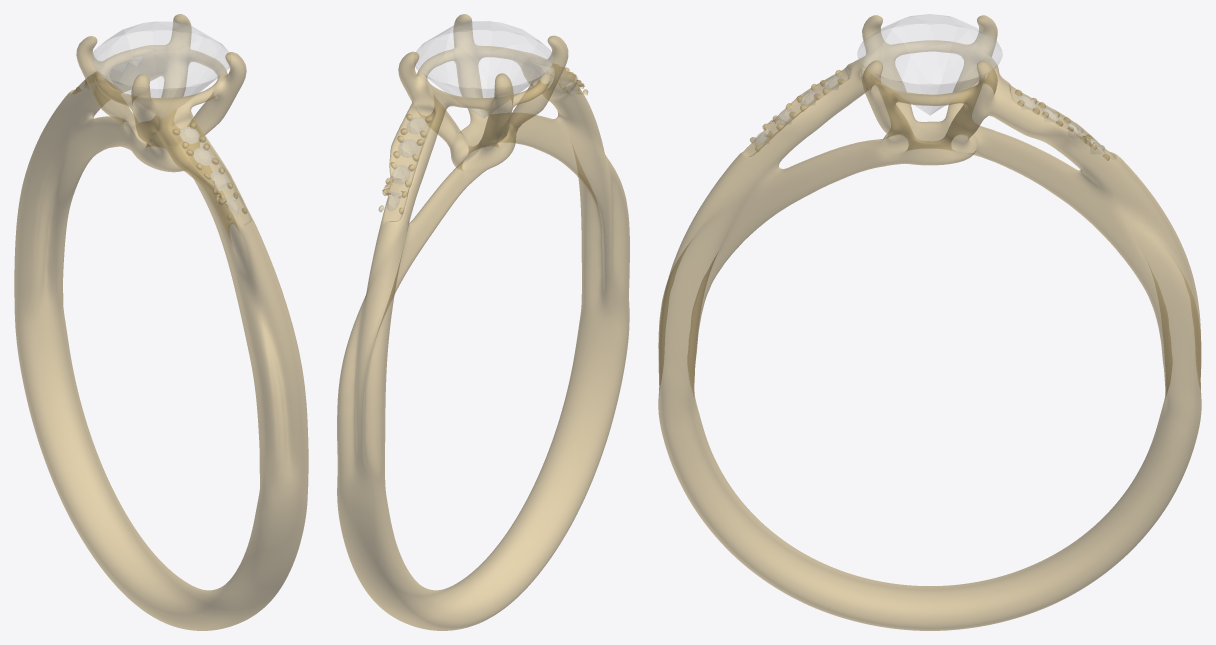
3 renders of one model, left to right at view 1: azimuth 30°, elevation 25°; view 2: azimuth 150°, elevation 25°; view 3: azimuth 270°, elevation 25°, orthographic. The views are drawn at different scales.
Parts seen in each view (by area): view 1: Ring, Diamond; view 2: Ring, Diamond; view 3: Ring, Diamond.
Boxes of the visible parts, x1,y1,x2,y2 form: Ring: (14,14,308,630); Diamond: (84,22,238,215); Ring: (337,14,629,630); Diamond: (387,21,579,210); Ring: (658,15,1201,630); Diamond: (754,14,1105,154).
Bounding box in the file's own units: 0.6111 × 2.77 × 2.29.
